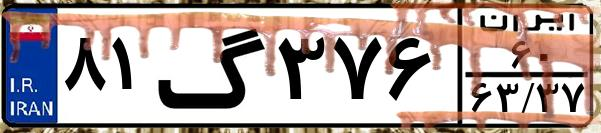0: (537, 27, 568, 80)
1: (110, 28, 156, 98)
3: (270, 28, 330, 110), (495, 70, 520, 125), (535, 70, 560, 125)
6: (385, 28, 445, 110), (508, 27, 537, 80), (470, 70, 495, 125)
7: (330, 28, 385, 110), (560, 70, 590, 125)
8: (57, 26, 110, 100)
گ: (156, 12, 270, 120)
